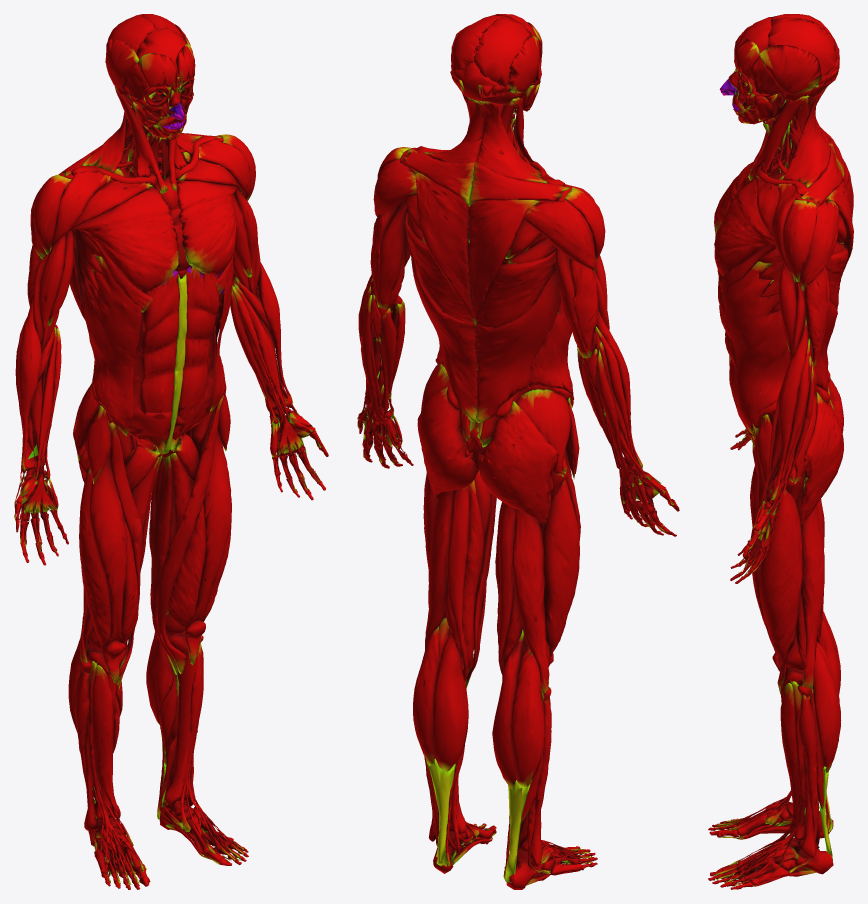
The model's file is corpo-BfCpttoX.glb.
3 renders of one model, left to right at view 1: azimuth 30°, elevation 25°; view 2: azimuth 150°, elevation 25°; view 3: azimuth 270°, elevation 25°, orthographic. The views are drawn at different scales.
Parts seen in each view (by area): view 1: ossos, peito_medio, outros, antebraco_flexores, reto_femoral, abdomen_superior, tibial, adutores_anteriores, sartorio, obliquo_superior, obliquo_inferior, vasto_medial (+19 smaller); view 2: latissimo, gastrocnemio, ossos, gluteo_maximo, trapezio_inferior, semitendineo, biceps_femoral, antebraco_extensores, vasto_lateral, ombro_posterior, trapezio_medio, trapezio_superior (+16 smaller); view 3: ossos, outros, vasto_lateral, tibial, peito_medio, obliquo_superior, gastrocnemio, gluteo_maximo, biceps_femoral, obliquo_inferior, trapezio_superior, antebraco_extensores (+23 smaller).
Part boxes in pixels (bbox=[...]): ossos: bbox=[15, 14, 328, 889]; peito_medio: bbox=[69, 180, 237, 292]; outros: bbox=[19, 24, 312, 880]; antebraco_flexores: bbox=[19, 277, 320, 552]; reto_femoral: bbox=[89, 413, 231, 683]; abdomen_superior: bbox=[141, 266, 219, 392]; tibial: bbox=[88, 636, 243, 884]; adutores_anteriores: bbox=[119, 434, 199, 689]; sartorio: bbox=[108, 395, 223, 689]; obliquo_superior: bbox=[83, 256, 233, 353]; obliquo_inferior: bbox=[88, 310, 225, 435]; vasto_medial: bbox=[121, 502, 205, 657]; latissimo: bbox=[404, 211, 561, 422]; gastrocnemio: bbox=[413, 618, 544, 882]; ossos: bbox=[358, 14, 679, 889]; gluteo_maximo: bbox=[417, 387, 558, 526]; trapezio_inferior: bbox=[414, 170, 539, 325]; semitendineo: bbox=[445, 479, 522, 682]; biceps_femoral: bbox=[425, 490, 549, 693]; antebraco_extensores: bbox=[357, 278, 674, 534]; vasto_lateral: bbox=[423, 472, 579, 666]; ombro_posterior: bbox=[373, 159, 595, 272]; trapezio_medio: bbox=[402, 148, 569, 206]; trapezio_superior: bbox=[424, 95, 547, 183]; ossos: bbox=[708, 14, 844, 889]; outros: bbox=[719, 25, 839, 887]; vasto_lateral: bbox=[759, 489, 802, 685]; tibial: bbox=[714, 680, 805, 886]; peito_medio: bbox=[714, 159, 783, 276]; obliquo_superior: bbox=[721, 261, 788, 353]; gastrocnemio: bbox=[812, 611, 840, 861]; gluteo_maximo: bbox=[796, 378, 843, 524]; biceps_femoral: bbox=[796, 505, 824, 688]; obliquo_inferior: bbox=[733, 339, 789, 434]; trapezio_superior: bbox=[783, 86, 830, 187]; antebraco_extensores: bbox=[743, 339, 814, 579].
Size of the model in its own units: 0.6482 by 1.65 by 0.2593.
